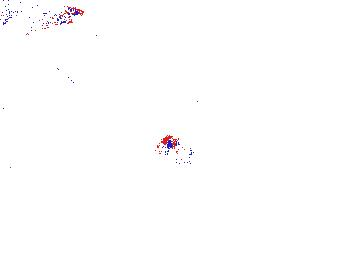X-ray fish: (42, 163, 97, 198), (156, 129, 195, 168)
redtail glassfish: (1, 3, 84, 37)
